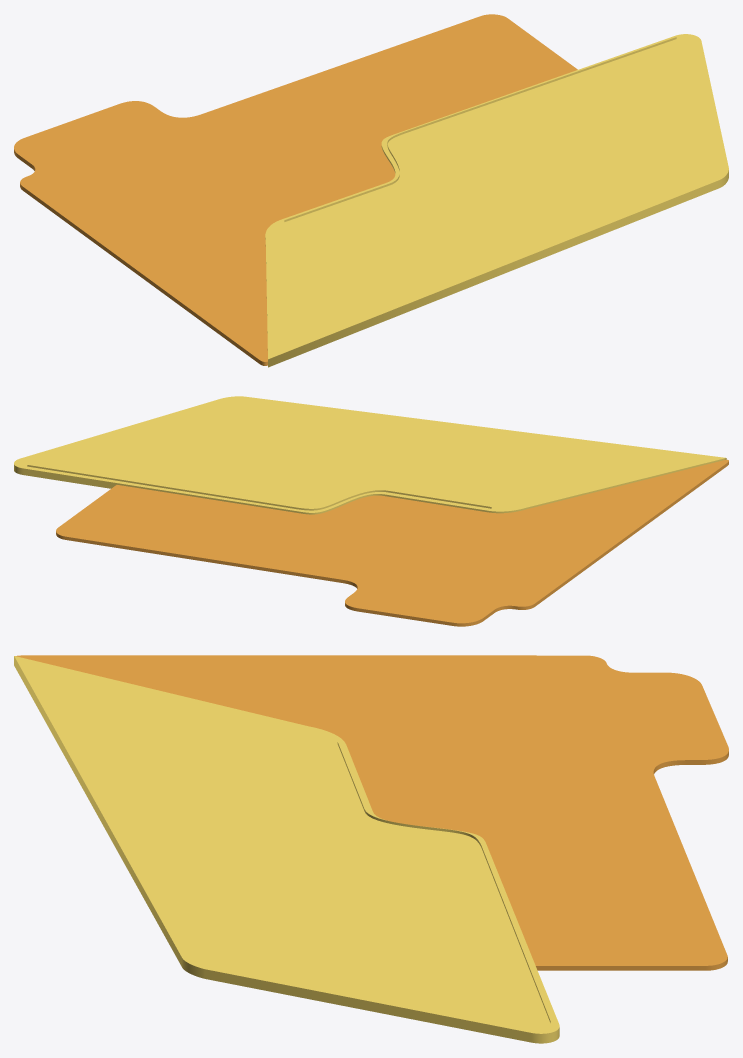
Rendered from emoji_u1f4c2.glb.
The picture shows the model from 3 angles, top to bottom: view 1: azimuth 30°, elevation 25°; view 2: azimuth 150°, elevation 25°; view 3: azimuth 270°, elevation 25°; orthographic projection. The views are drawn at different scales.
Visible parts, largest first — view 1: emoji_u1f4c2; view 2: emoji_u1f4c2; view 3: emoji_u1f4c2.
Part boxes in pixels (left/top/right/bottom): emoji_u1f4c2: left=14, top=14, right=728, bottom=367; emoji_u1f4c2: left=14, top=396, right=728, bottom=626; emoji_u1f4c2: left=14, top=655, right=728, bottom=1043.
Size of the model in its own units: 0.0337 by 0.0006 by 0.0267.
